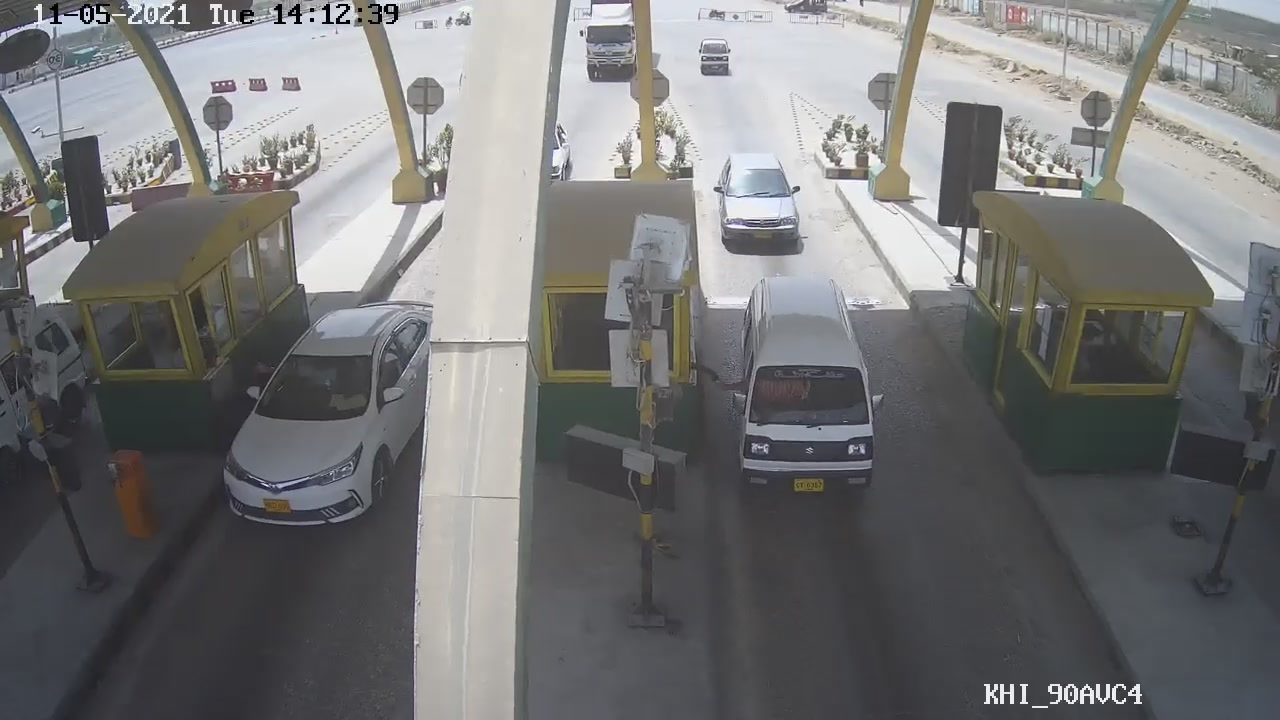F1: (729, 272, 889, 515)
